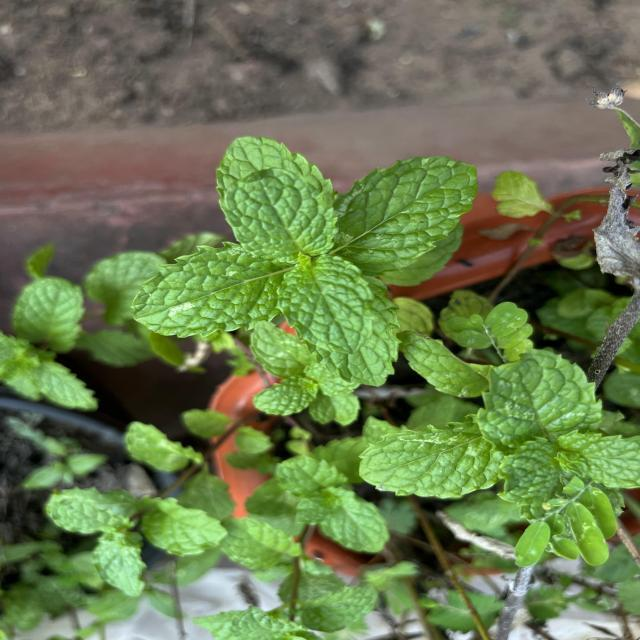Mentha spicata: (336, 154, 481, 278), (214, 135, 340, 262), (130, 240, 282, 340), (356, 420, 504, 500), (274, 253, 376, 356)
